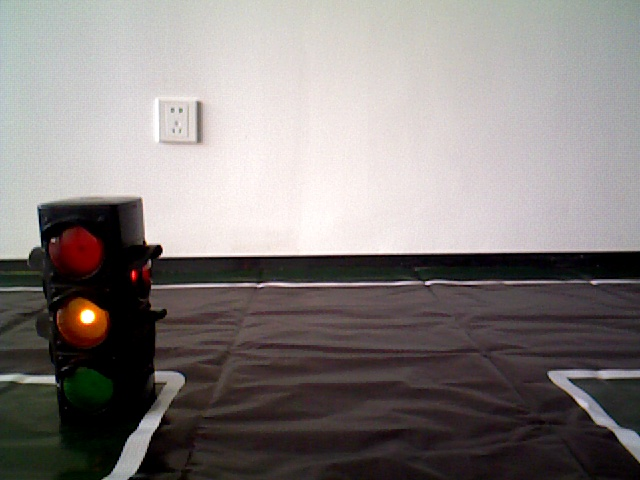yellow: (35, 194, 156, 405)
